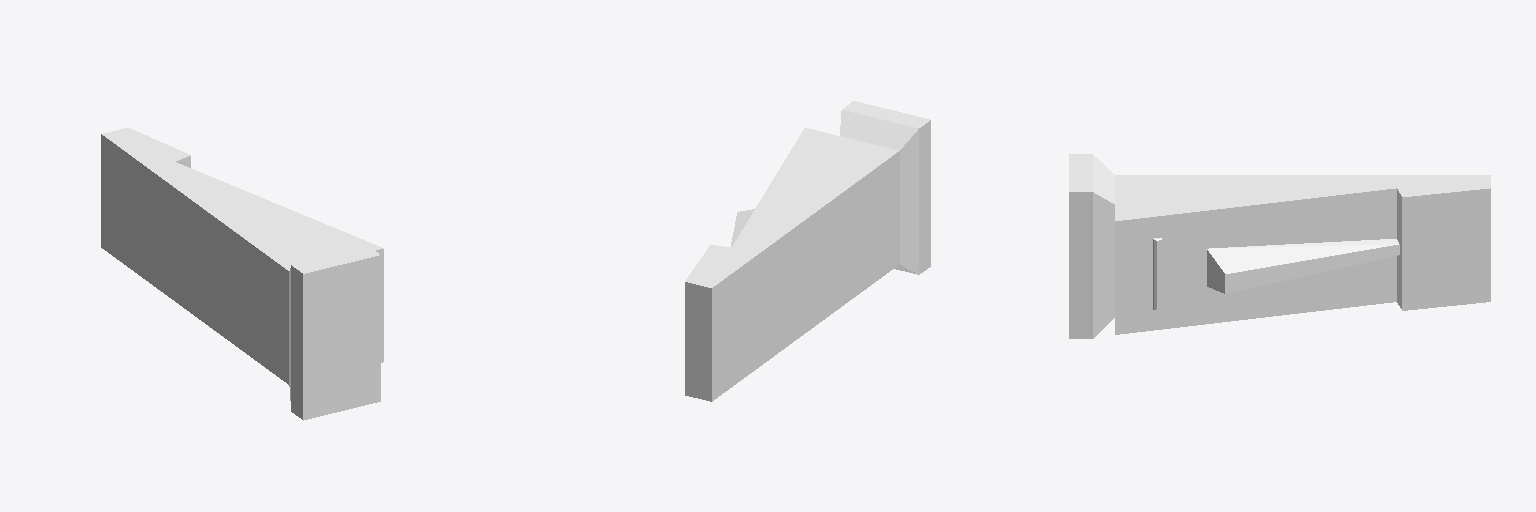
File: moai.obj
3 renders of one model, left to right at view 1: azimuth 30°, elevation 25°; view 2: azimuth 150°, elevation 25°; view 3: azimuth 270°, elevation 25°, orthographic.
Parts seen in each view (by area): view 1: Moai; view 2: Moai; view 3: Moai.
Boxes of the visible parts, box(x1,y1,x2,y2) form: Moai: box(101, 127, 383, 420); Moai: box(685, 101, 930, 401); Moai: box(1069, 154, 1490, 338).
Bounding box in the file's own units: 2.14 × 2.58 × 6.73.